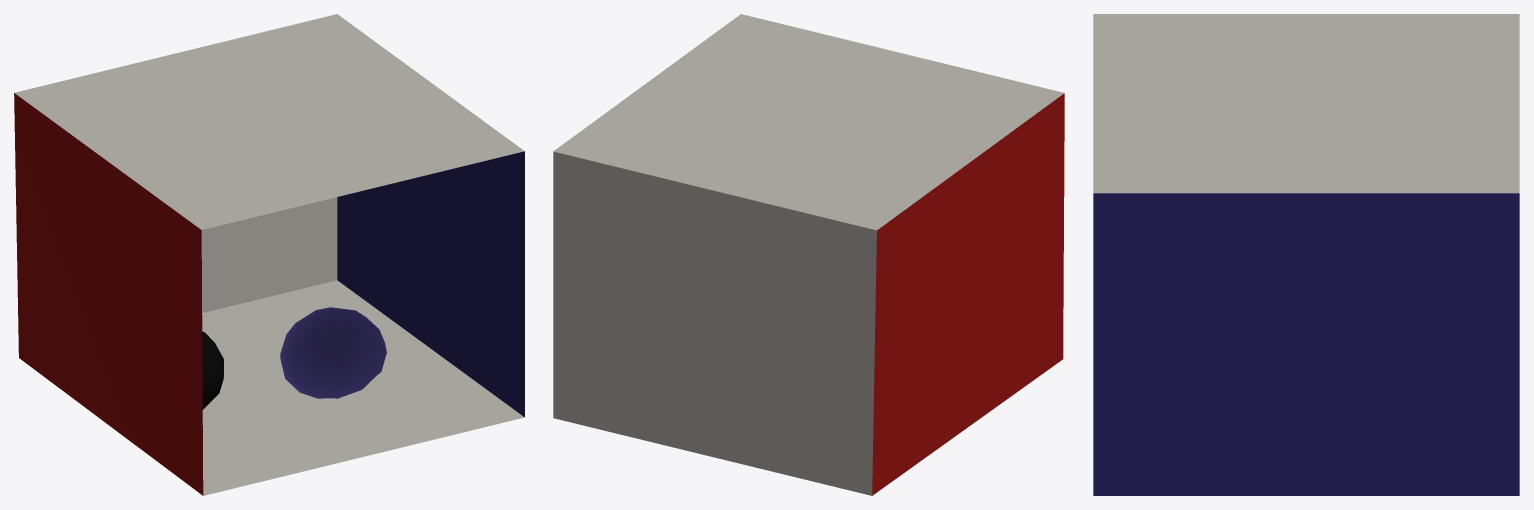
The model's file is CornellBox-Ellipsoid-438.obj.
3 views of the same model, side by side, from view 1: azimuth 30°, elevation 25°; view 2: azimuth 150°, elevation 25°; view 3: azimuth 270°, elevation 25° (orthographic). The views are drawn at different scales.
Visible parts, largest first — view 1: ceiling, leftWall, floor, rightWall, backWall, leftSphere, rightSphere; view 2: backWall, ceiling, leftWall; view 3: rightWall, ceiling.
Boxes of the visible parts, box(x1,y1,x2,y2) form: ceiling: box(14, 14, 524, 229); leftWall: box(14, 93, 203, 495); floor: box(202, 280, 524, 495); rightWall: box(337, 151, 524, 417); backWall: box(201, 197, 337, 312); leftSphere: box(280, 307, 386, 398); rightSphere: box(202, 331, 223, 409); backWall: box(553, 151, 876, 495); ceiling: box(553, 14, 1064, 230); leftWall: box(872, 93, 1064, 495); rightWall: box(1093, 193, 1519, 495); ceiling: box(1093, 14, 1519, 193).
Size of the model in its own units: 2.02 by 1.59 by 2.03.
